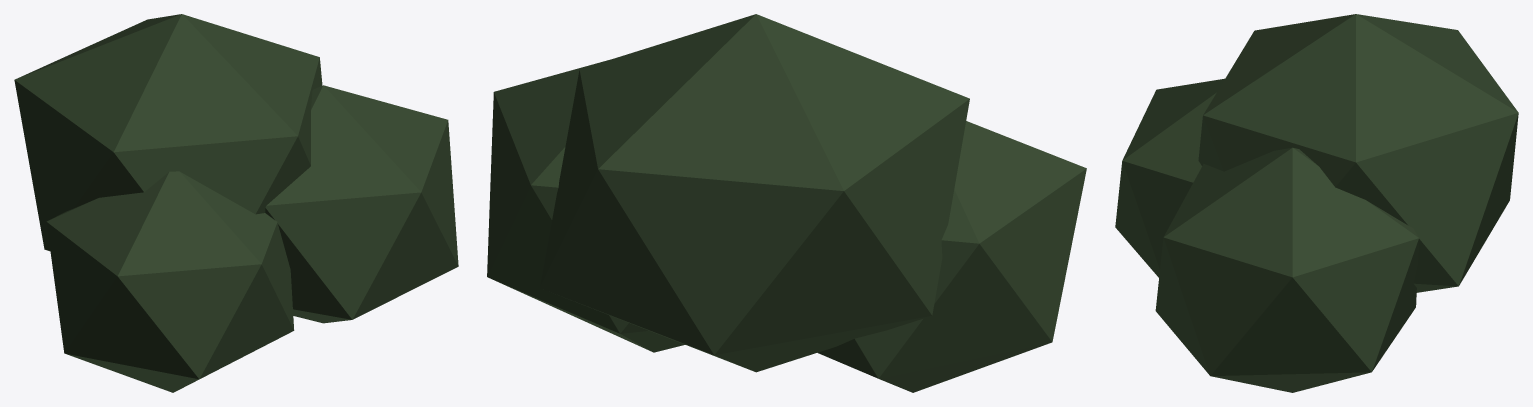
Rendered from flora_bush_mid.glb.
3 views of the same model, side by side, from view 1: azimuth 30°, elevation 25°; view 2: azimuth 150°, elevation 25°; view 3: azimuth 270°, elevation 25° (orthographic). The views are drawn at different scales.
Visible parts, largest first — view 1: FLORA_BushCrown_Mid; view 2: FLORA_BushCrown_Mid; view 3: FLORA_BushCrown_Mid.
Boxes of the visible parts, x1=… form: FLORA_BushCrown_Mid: x1=14, y1=14, x2=458, y2=392; FLORA_BushCrown_Mid: x1=487, y1=14, x2=1086, y2=392; FLORA_BushCrown_Mid: x1=1115, y1=14, x2=1518, y2=392.
Bounding box in the file's own units: 10.68 × 8 × 8.84.
